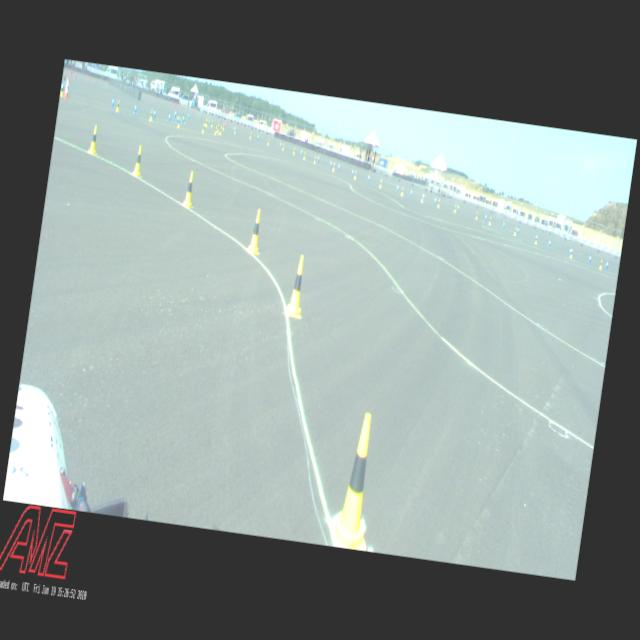blue_cone: (111, 97, 115, 107), (134, 104, 138, 114), (605, 260, 609, 269), (168, 112, 172, 121), (588, 254, 592, 262), (516, 226, 520, 234), (548, 238, 551, 248), (153, 108, 156, 118), (182, 114, 185, 124), (484, 213, 488, 220), (396, 183, 399, 192), (569, 246, 572, 255), (502, 220, 505, 228), (456, 203, 459, 210), (434, 197, 437, 204), (317, 156, 320, 162), (330, 160, 332, 168), (410, 188, 412, 196), (368, 174, 370, 182), (338, 163, 340, 171), (300, 149, 302, 156), (352, 168, 354, 175), (188, 113, 190, 120)
large_orange_cone: (64, 78, 71, 98), (64, 75, 69, 94)
yellow_cone: (329, 410, 385, 550), (285, 254, 310, 318), (247, 208, 265, 254), (183, 170, 197, 208), (132, 144, 145, 178), (87, 125, 100, 154), (149, 110, 154, 122), (116, 99, 120, 112), (453, 204, 458, 214), (353, 170, 358, 180), (599, 258, 603, 270), (569, 248, 573, 259), (60, 85, 64, 96), (177, 118, 181, 128), (332, 162, 336, 172), (420, 193, 424, 203), (312, 156, 316, 165), (488, 216, 492, 225), (513, 227, 517, 236), (534, 236, 538, 244), (401, 187, 404, 196), (202, 124, 205, 133), (379, 179, 382, 188), (215, 126, 218, 135), (303, 152, 306, 160), (475, 212, 478, 220), (293, 147, 296, 155), (211, 119, 214, 127), (249, 132, 252, 139), (267, 138, 270, 145), (220, 126, 222, 135), (438, 199, 440, 208), (282, 143, 284, 151), (206, 120, 208, 128), (234, 127, 236, 134)
